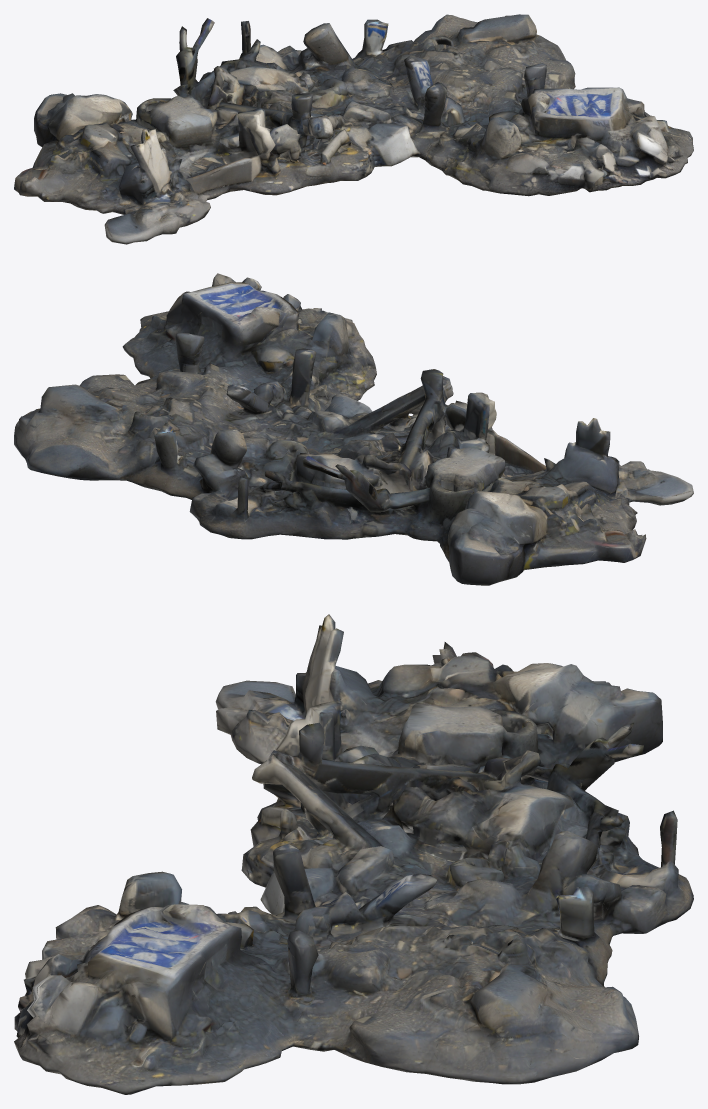
Rendered from CityDebris_1.fbx.
3 views of the same model, one above another, from view 1: azimuth 30°, elevation 25°; view 2: azimuth 150°, elevation 25°; view 3: azimuth 270°, elevation 25° (orthographic). The views are drawn at different scales.
Parts seen in each view (by area): view 1: Mesh_0; view 2: Mesh_0; view 3: Mesh_0.
Part boxes in pixels (box(x1,y1,x2,y2)): Mesh_0: box(14, 14, 693, 244); Mesh_0: box(14, 273, 693, 585); Mesh_0: box(14, 614, 693, 1094).
Size of the model in its own units: 200 by 26.6 by 136.
Materials: 1 (1 with a texture image).
